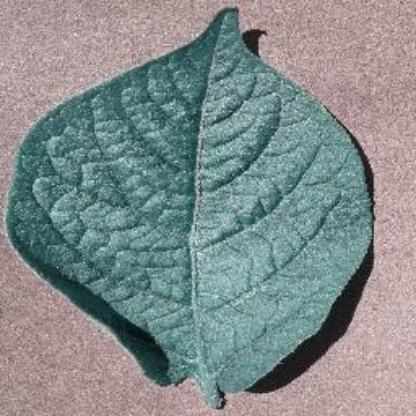Healthy-plant: (4, 8, 378, 406)
